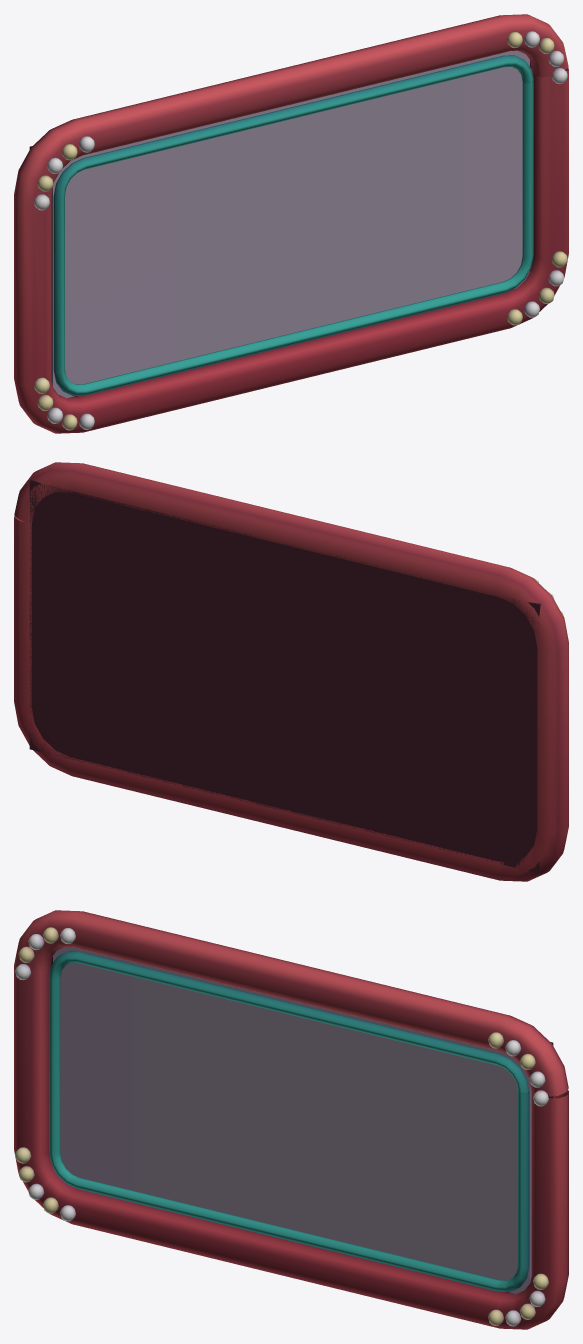
Rendered from board_retro.glb.
3 views of the same model, one above another, from view 1: azimuth 30°, elevation 25°; view 2: azimuth 150°, elevation 25°; view 3: azimuth 330°, elevation 25° (orthographic).
Visible parts, largest first — view 1: board_retro_menu, board_retro; view 2: board_retro; view 3: board_retro_menu, board_retro.
Boxes of the visible parts, bbox=[...] form: board_retro_menu: bbox=[51, 50, 529, 398]; board_retro: bbox=[14, 14, 568, 433]; board_retro: bbox=[14, 462, 568, 881]; board_retro_menu: bbox=[53, 946, 531, 1294]; board_retro: bbox=[14, 910, 568, 1329].
Size of the model in its own units: 2.7 by 1.46 by 0.175.
